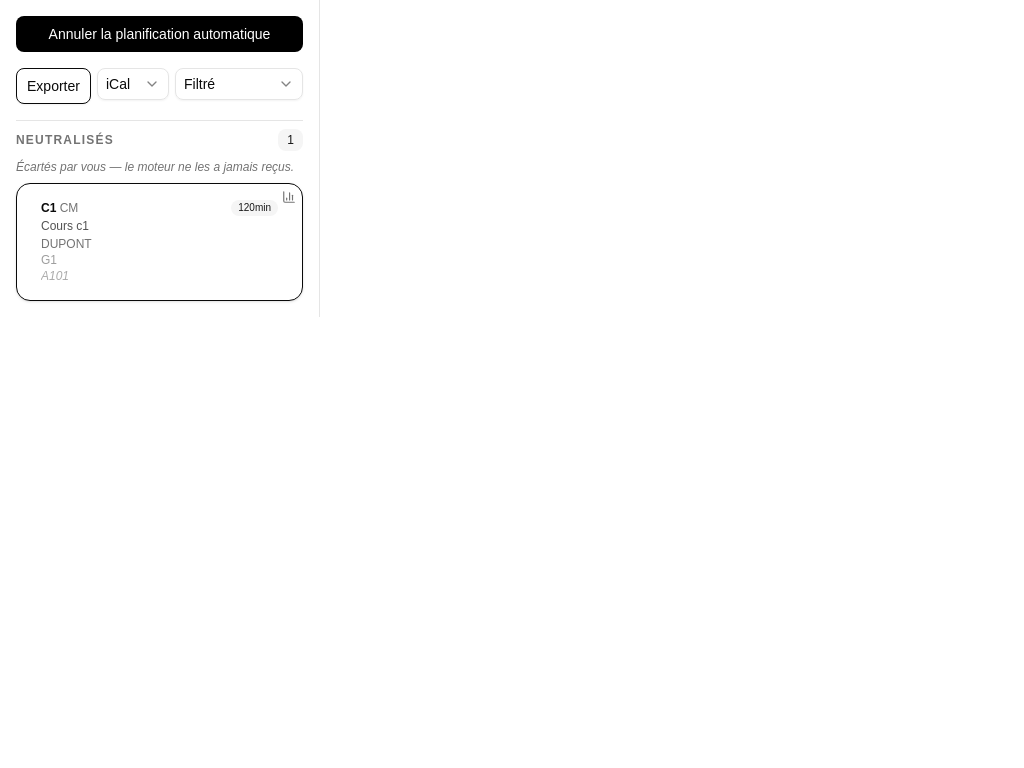
it: analyse de charge d'un cours remis dans la pioche après planification › la table part des placements affichés : le créneau libéré redevient du mou
The width and height of the screenshot is (1024, 768).
Expected: the element with class "relative" is shown, left=16, top=183, right=303, bottom=301
Click the button named "Analyse de charge" at coordinates (289, 197), box left=279, top=187, right=299, bottom=207
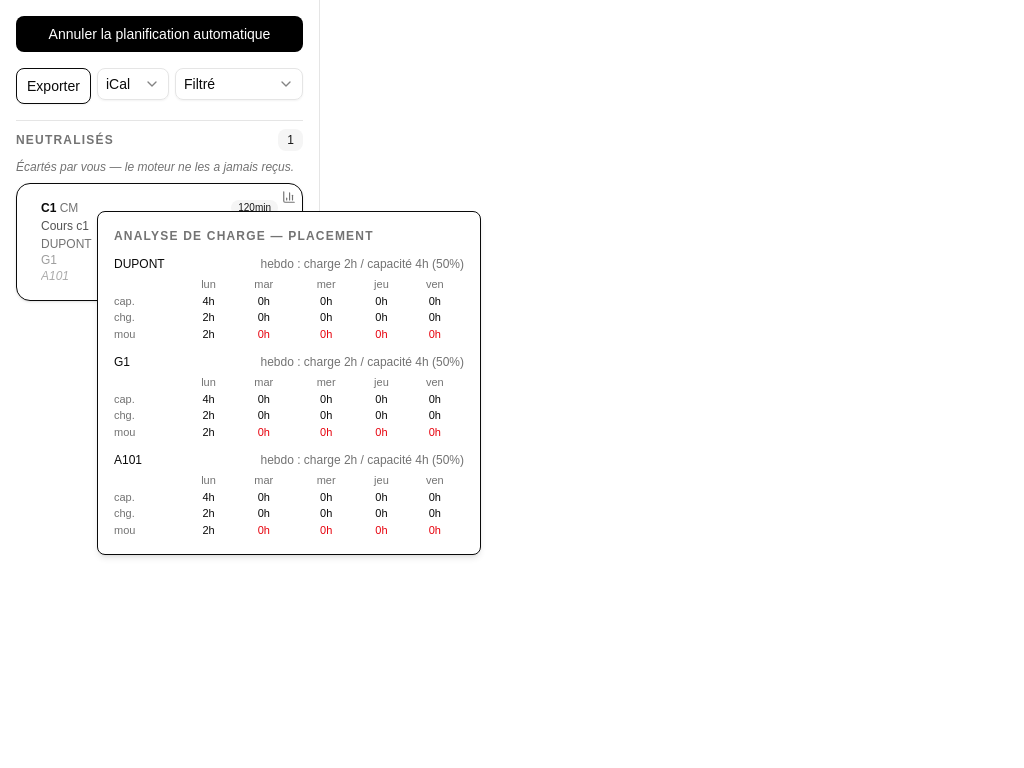
Result: the 2nd cell "2h" is shown at left=184, top=326, right=233, bottom=342
Result: the 4th cell "2h" is shown at left=184, top=424, right=233, bottom=440
Result: the 6th cell "2h" is shown at left=184, top=522, right=233, bottom=538
